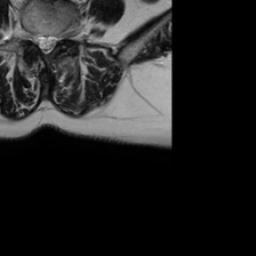CCS_normal: (42, 29, 48, 59)
LFS_normal: (56, 23, 64, 48)
LLS_normal: (48, 27, 55, 57)
RFS_normal: (27, 25, 35, 50)
RLS_normal: (35, 27, 42, 55)
